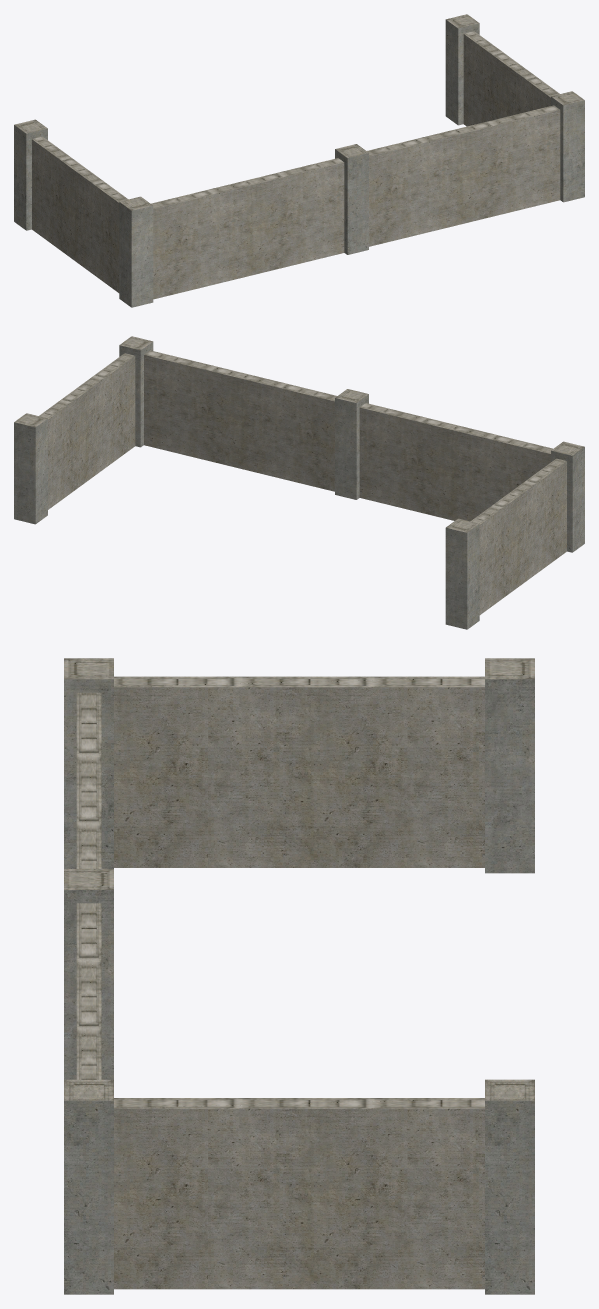
The model's file is poi_all_corral_half_32x32_s04_l0.fbx.
The picture shows the model from 3 angles, top to bottom: view 1: azimuth 30°, elevation 25°; view 2: azimuth 150°, elevation 25°; view 3: azimuth 270°, elevation 25°; orthographic projection. The views are drawn at different scales.
Parts seen in each view (by area): view 1: mesh_node; view 2: mesh_node; view 3: mesh_node.
Part boxes in pixels (x1,y1,x2,y2): mesh_node: (14, 14, 584, 307); mesh_node: (14, 336, 584, 629); mesh_node: (64, 658, 534, 1294).
Size of the model in its own units: 21 by 4.29 by 9.44.
